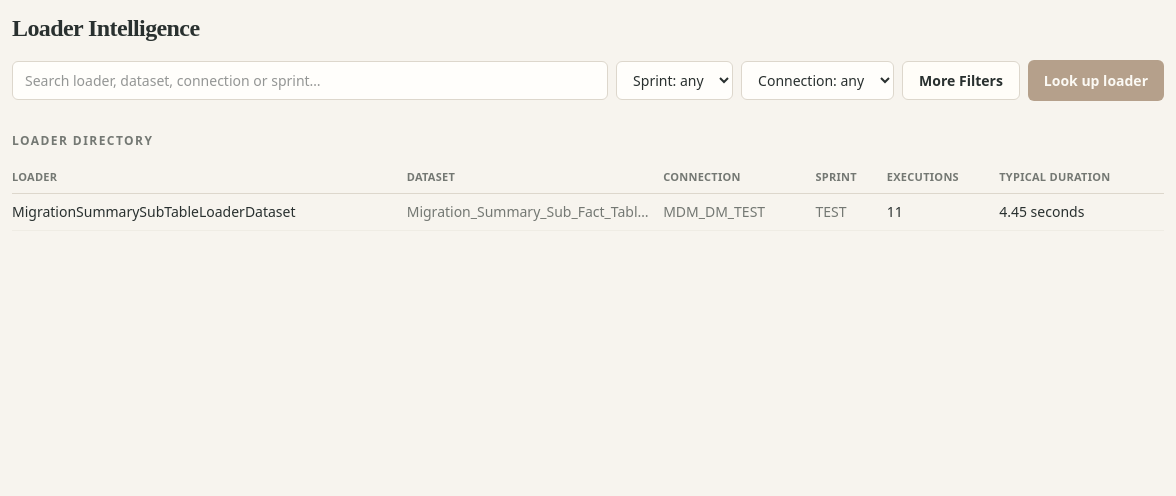
Scenario: Loader Intelligence (simple panel, 2026-10-03 spec) › handles an unknown loader honestly (no fabricated history)
The width and height of the screenshot is (1176, 496).
In the field named "Loader name": (310, 80) [12,61,608,100], type "definitely_not_a_real_loader_xyz"
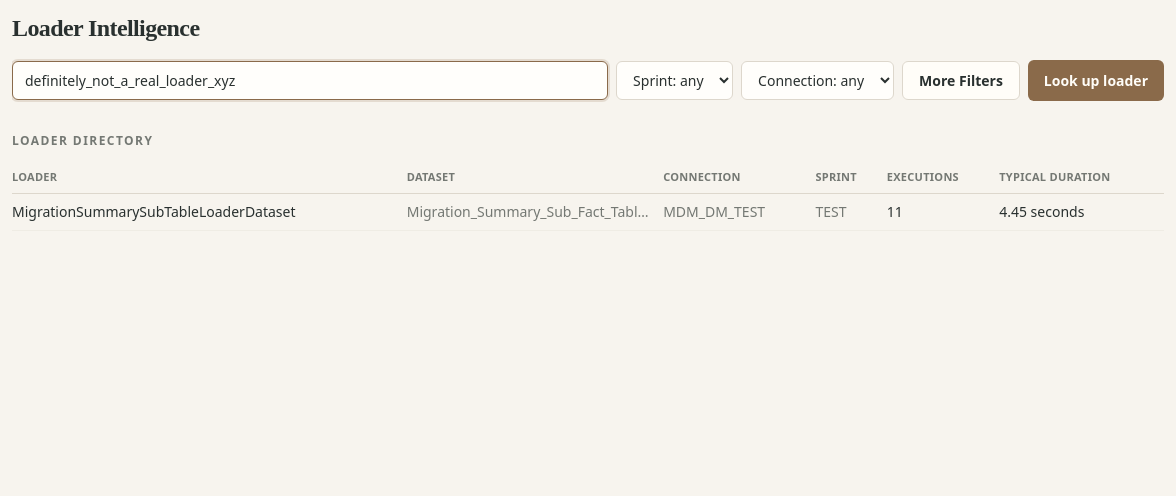
Click the button "Look up loader": (1096, 80) [1028,60,1164,101]
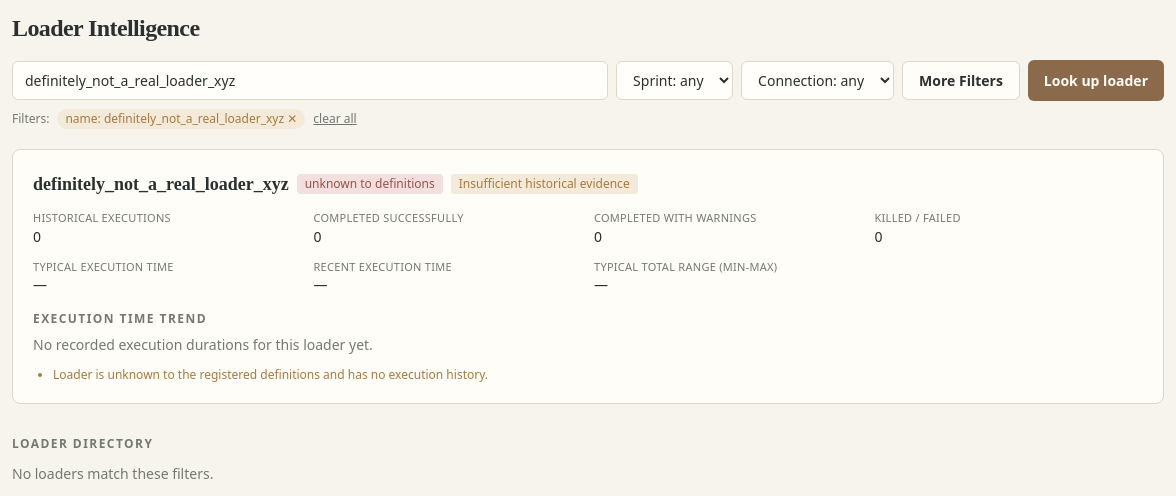
Check: the element with test id "loader-intel-card" is shown, box [12,149,1164,404]
Check: the text with test id "intel-exec-count" reads "0", box [33,226,41,246]
Check: the text with test id "intel-eta-eligible" reads "Insufficient historical evidence", box [459,175,630,192]
